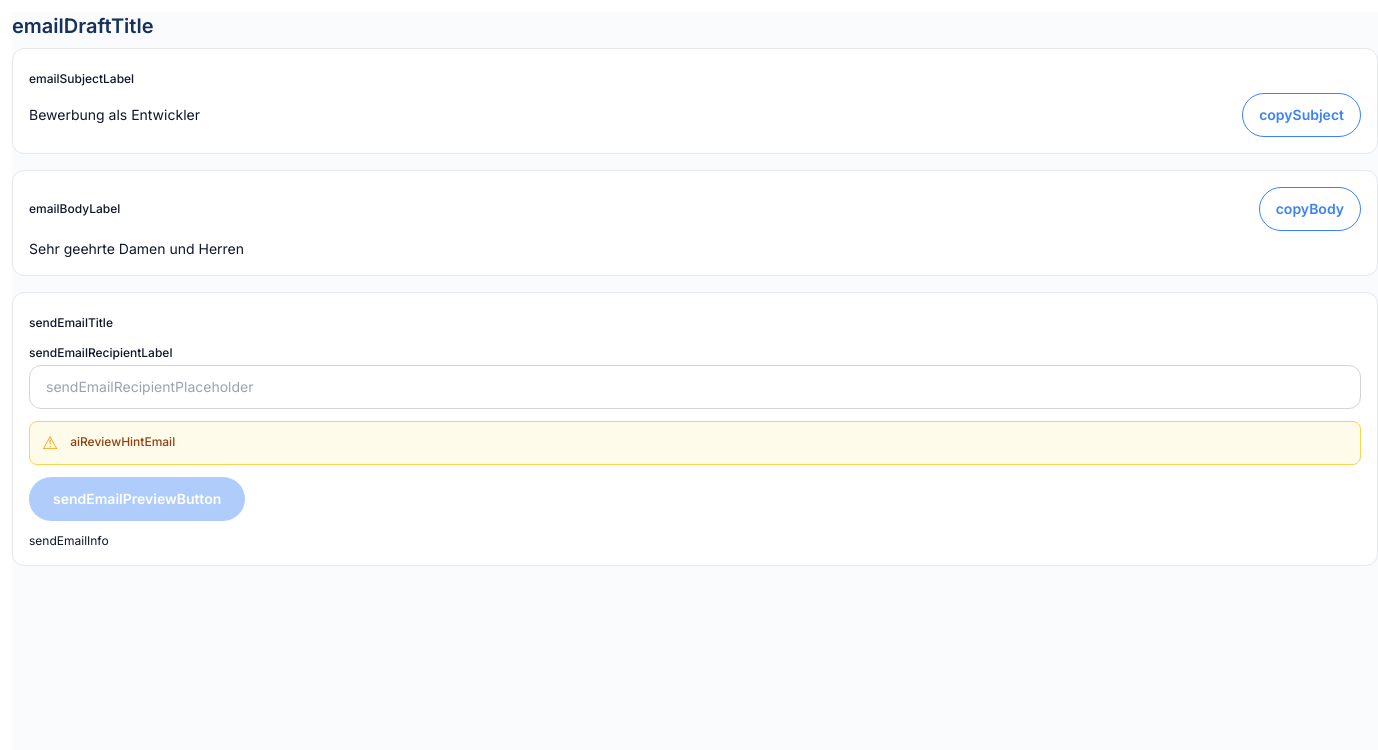
Test: EmailDraft › erlaubt Eingabe und Vorschau wenn Checkboxen gesetzt
The image size is (1378, 750).
Step 1. Type "hr@firma.de" into the field with test id "recipient-input" → (695, 387), box [29,365,1361,409]
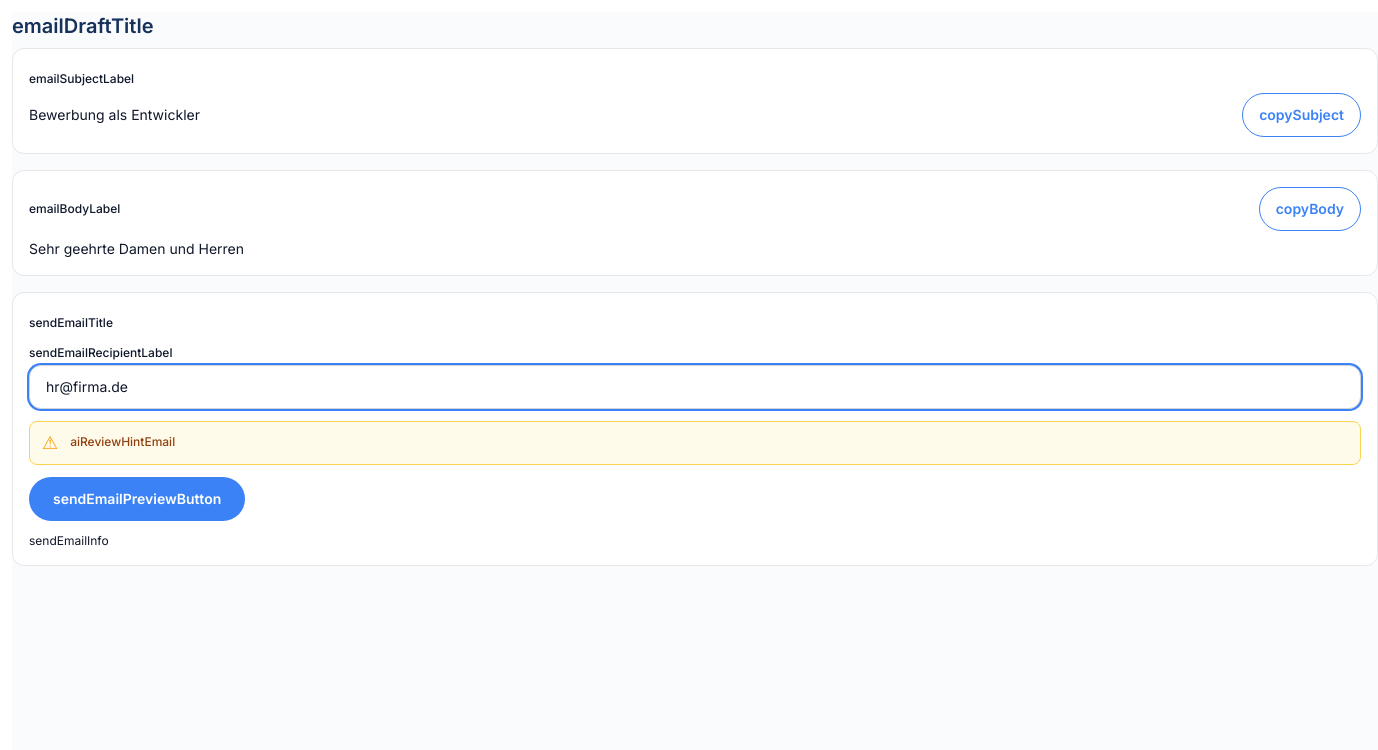
Step 2. Click the button with test id "send-email-button" → (137, 499), box [29,477,245,521]
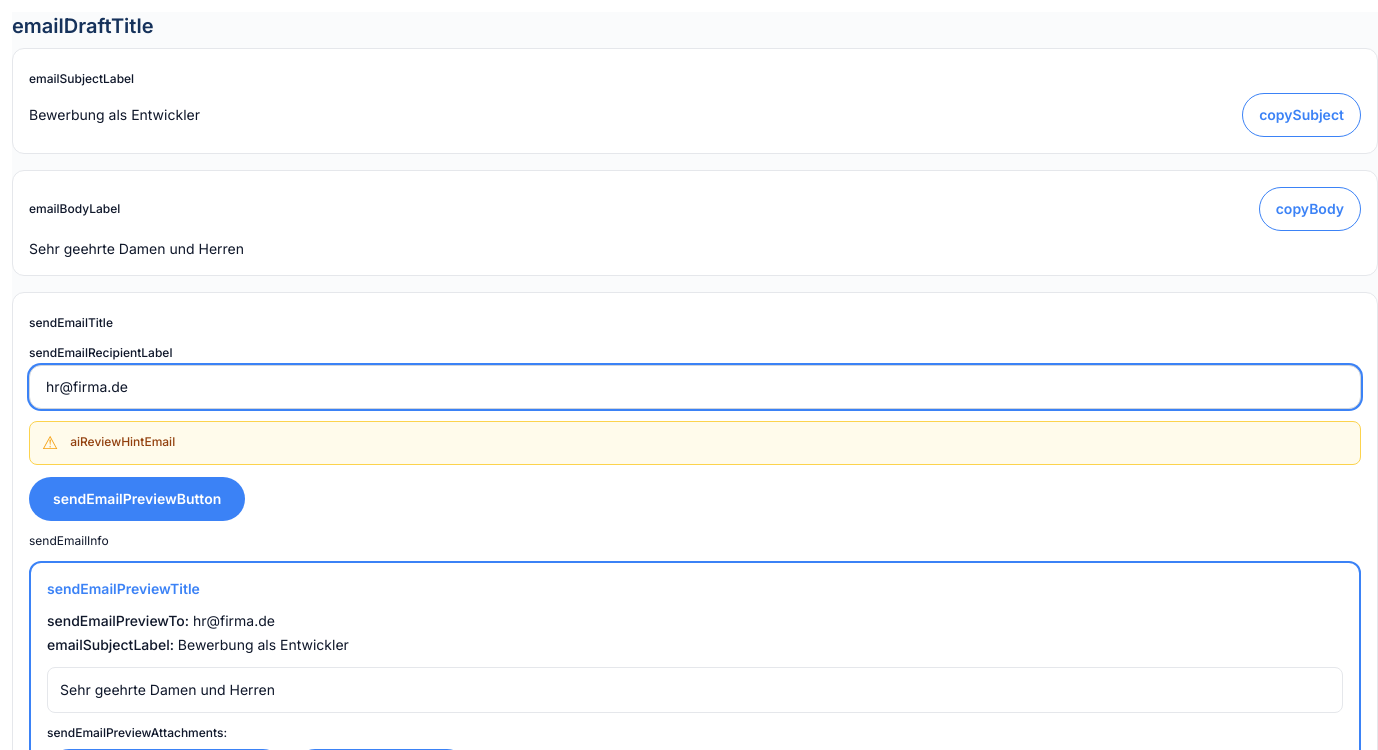
Check: the text "hr@firma.de" is shown, box [193,612,275,629]
Check: the text "sendEmailPreviewAttachments:" is shown, box [47,725,227,740]
